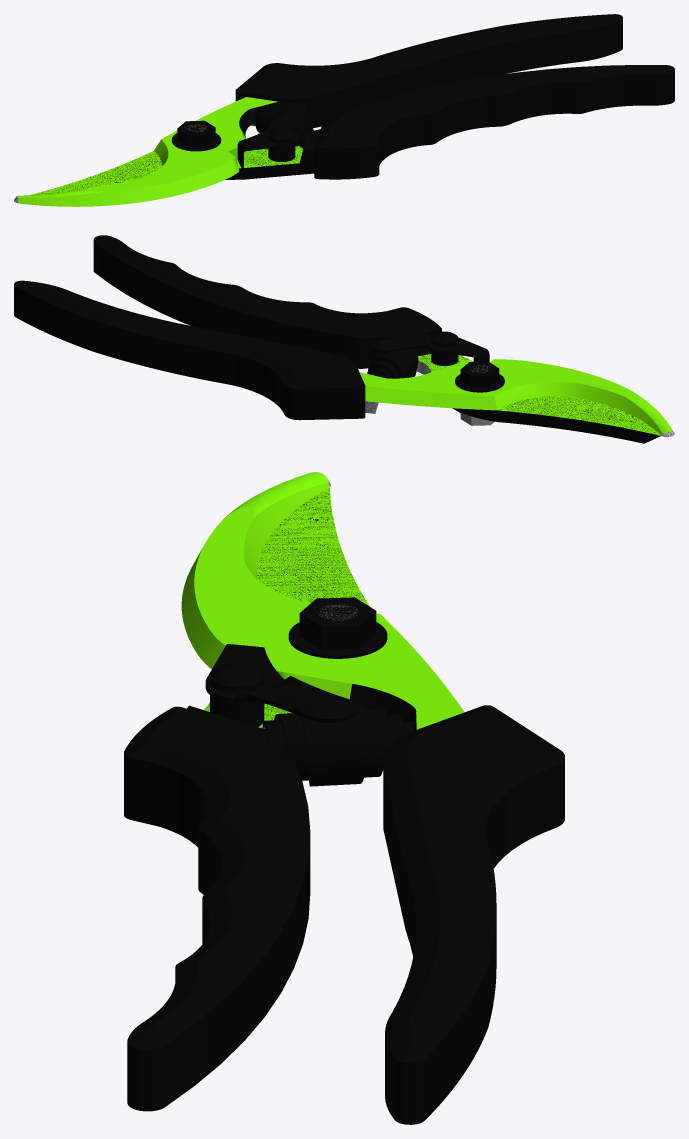
File: shears_01_origin_gt_2.dae
3 renders of one model, top to bottom at view 1: azimuth 30°, elevation 25°; view 2: azimuth 150°, elevation 25°; view 3: azimuth 270°, elevation 25°, orthographic. The views are drawn at different scales.
Parts seen in each view (by area): view 1: group_1, group_0, Difference1 (×6), group_2, group_10, group_3, group_6; view 2: group_0, Difference1 (×5), group_1, group_2, group_10, group_6, group_3; view 3: group_1, group_0, Difference1 (×5), group_10, group_2, group_6, group_3.
Boxes of the visible parts, x1=… form: group_1: x1=314, y1=65, x2=674, y2=179; group_0: x1=235, y1=14, x2=622, y2=127; Difference1 (×6): x1=16, y1=97, x2=320, y2=206; group_2: x1=237, y1=101, x2=308, y2=167; group_10: x1=255, y1=106, x2=313, y2=144; group_3: x1=268, y1=144, x2=295, y2=161; group_6: x1=268, y1=128, x2=295, y2=142; group_0: x1=14, y1=280, x2=365, y2=420; Difference1 (×5): x1=359, y1=335, x2=672, y2=443; group_1: x1=93, y1=235, x2=441, y2=368; group_2: x1=371, y1=332, x2=489, y2=361; group_10: x1=367, y1=349, x2=418, y2=378; group_6: x1=431, y1=331, x2=458, y2=346; group_3: x1=431, y1=351, x2=458, y2=365; group_1: x1=124, y1=706, x2=310, y2=1111; group_0: x1=383, y1=705, x2=564, y2=1124; Difference1 (×5): x1=181, y1=472, x2=464, y2=730; group_10: x1=262, y1=703, x2=403, y2=786; group_2: x1=205, y1=644, x2=356, y2=722; group_6: x1=210, y1=662, x2=264, y2=693; group_3: x1=210, y1=695, x2=264, y2=726.
Bounding box in the file's own units: 13.47 × 4.09 × 1.05.
5 materials, 1 textured.
